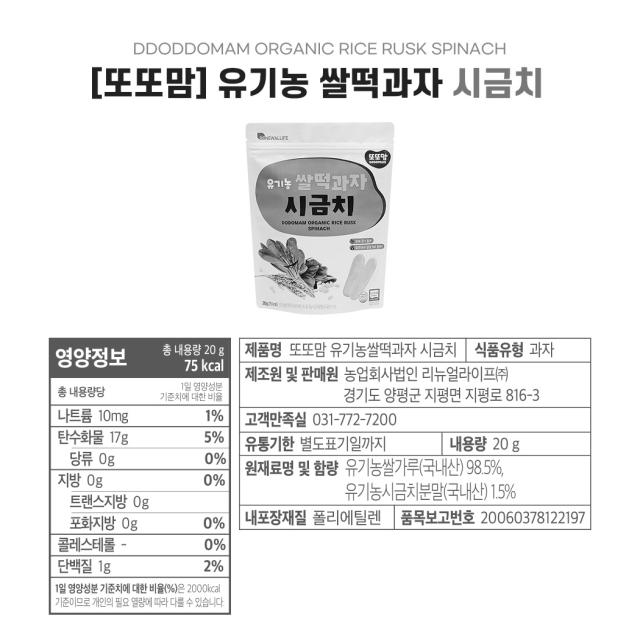Nutrition Label: (43, 330, 235, 620)
